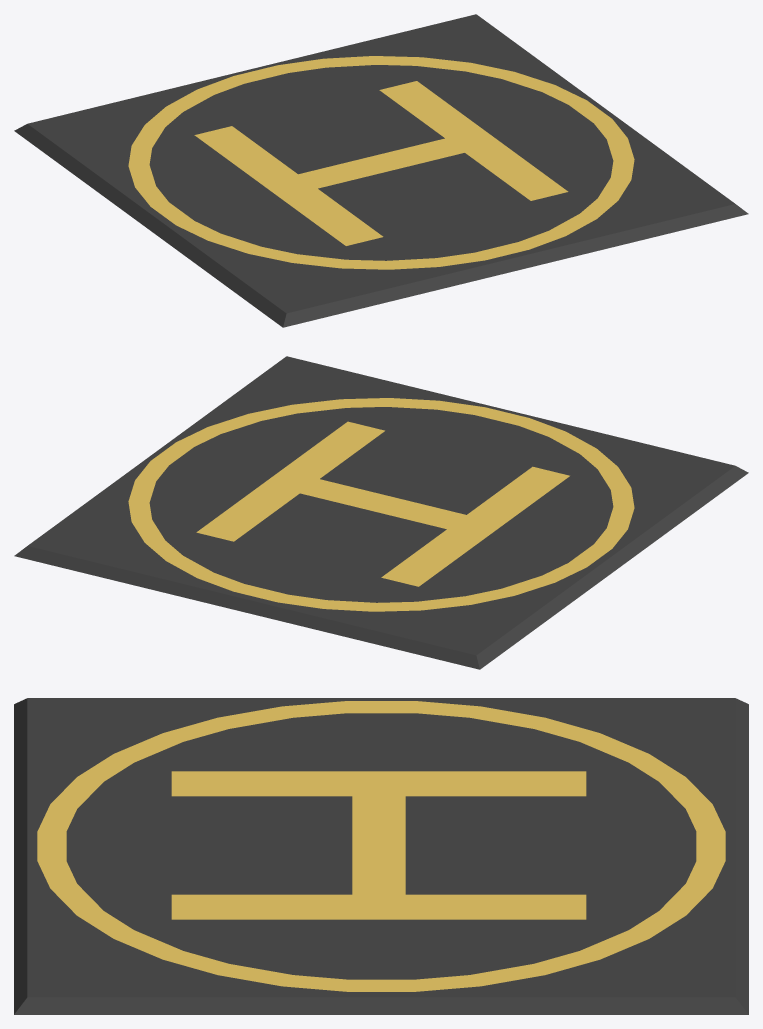
The model's file is L2Helipuerto.fbx.
3 views of the same model, one above another, from view 1: azimuth 30°, elevation 25°; view 2: azimuth 150°, elevation 25°; view 3: azimuth 270°, elevation 25° (orthographic). The views are drawn at different scales.
Parts seen in each view (by area): view 1: Helipuerto; view 2: Helipuerto; view 3: Helipuerto.
Boxes of the visible parts, bbox=[...] form: Helipuerto: bbox=[14, 14, 748, 327]; Helipuerto: bbox=[14, 356, 748, 669]; Helipuerto: bbox=[14, 698, 748, 1014].
Size of the model in its own units: 100 by 2.03 by 100.
